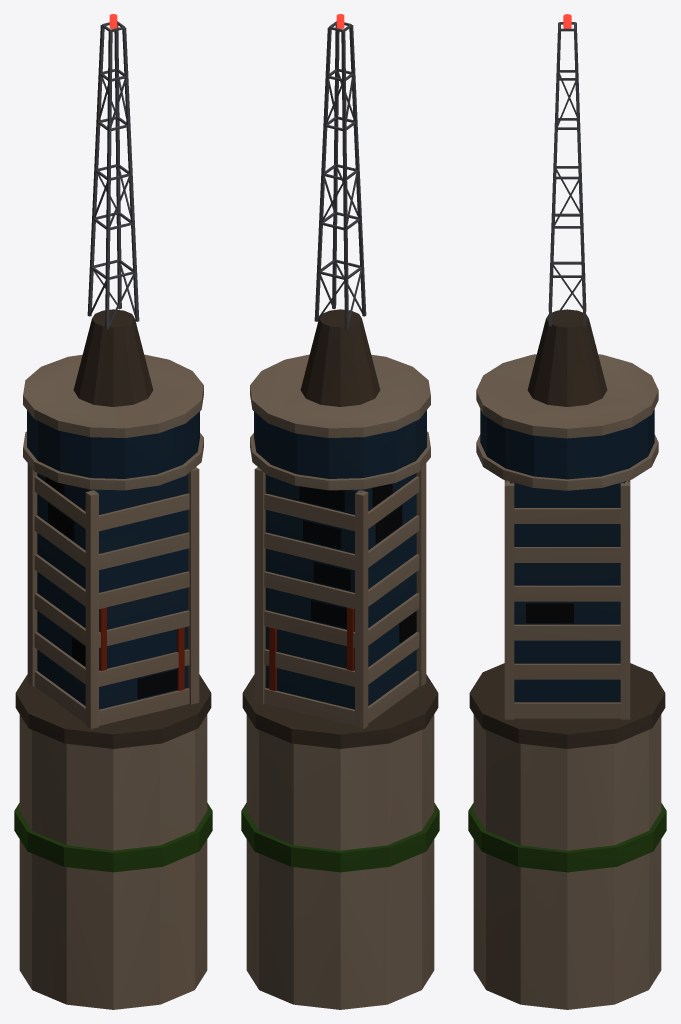
File: tb_tower_spire.three-web-toon.glb
The picture shows the model from 3 angles, left to right: view 1: azimuth 30°, elevation 25°; view 2: azimuth 150°, elevation 25°; view 3: azimuth 270°, elevation 25°; orthographic projection.
Parts seen in each view (by area): view 1: tower_spire_body; view 2: tower_spire_body; view 3: tower_spire_body.
Part boxes in pixels (x1,y1,x2,y2): tower_spire_body: (14,14,212,1009); tower_spire_body: (241,14,439,1009); tower_spire_body: (468,14,666,1009).
Bounding box in the file's own units: 14.8 × 78.5 × 14.8.
